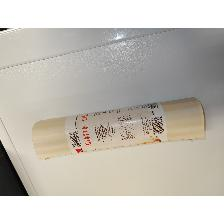Schokolade: (31, 96, 205, 160)
